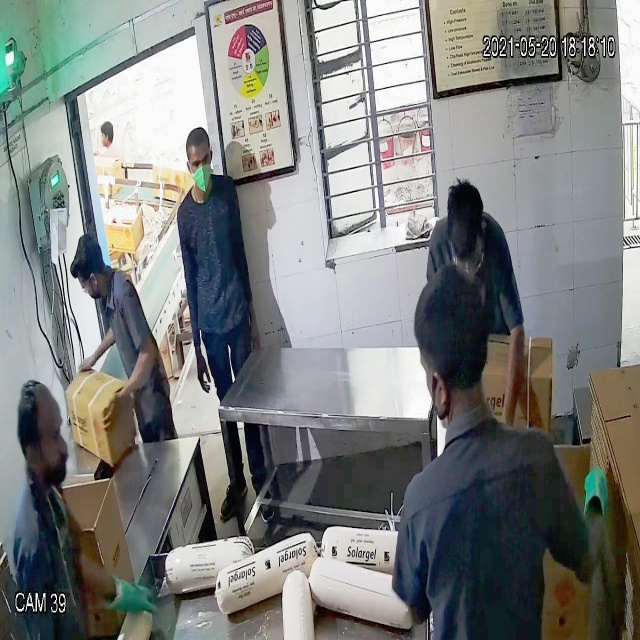Sin_gafas: (183, 149, 214, 174)
